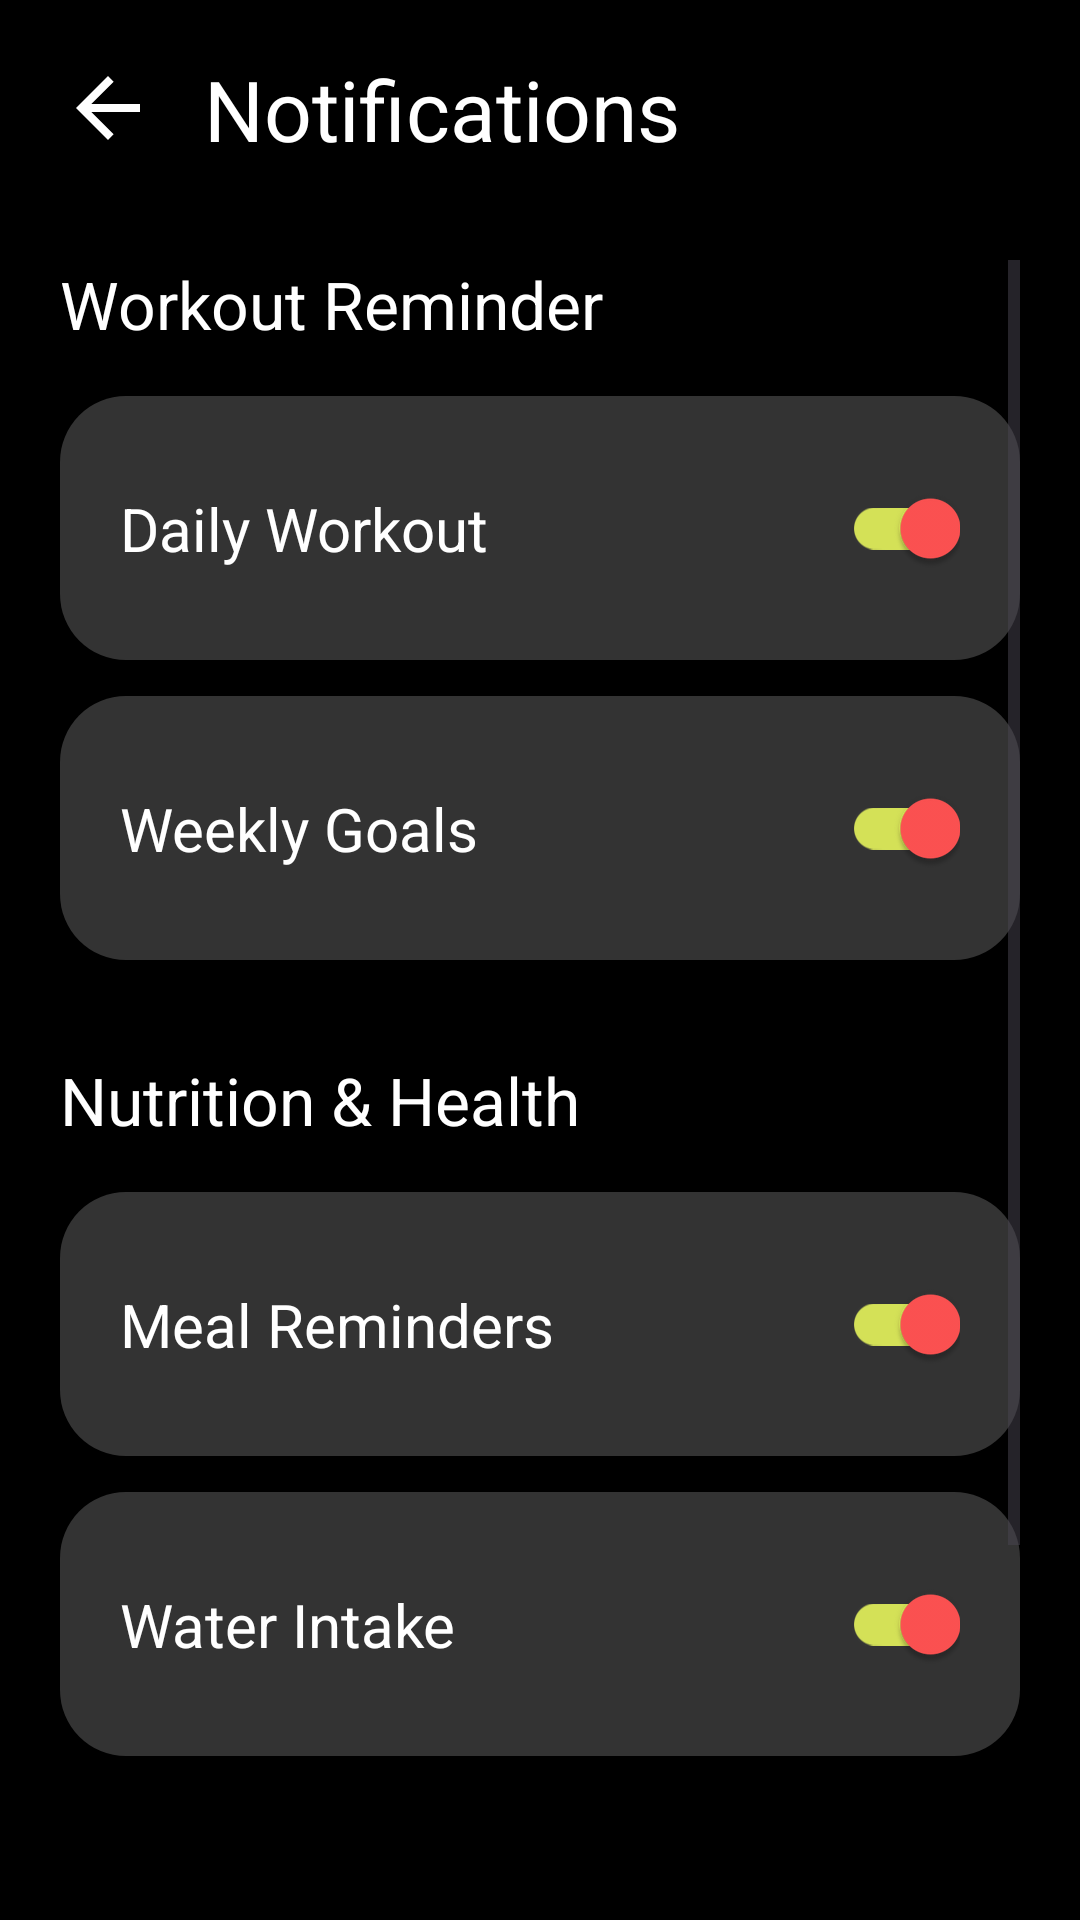

Icons on this 1080px×1920px Android screen, each with its box as {"x1": x1, "y1": y1, "x2": x2, "y2": y2}:
back: {"x1": 76, "y1": 76, "x2": 140, "y2": 140}
